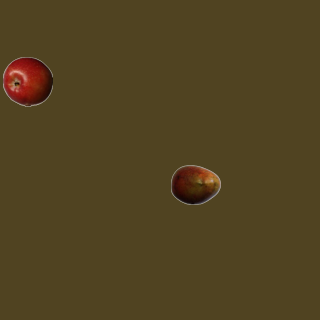Apple Braeburn: (2, 56, 52, 106)
Mango Red: (170, 159, 220, 209)
